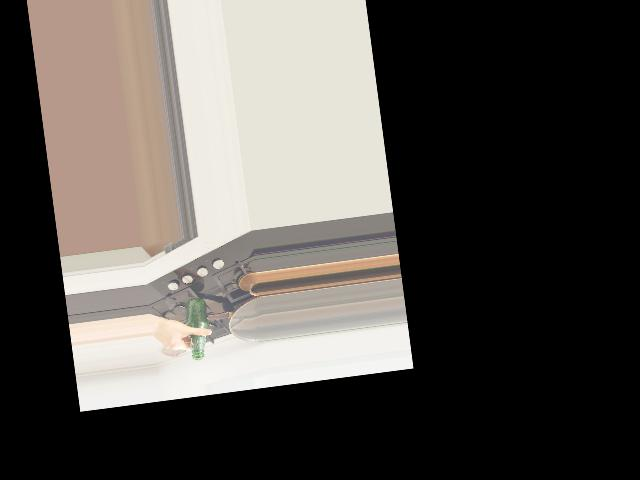beer: (184, 297, 212, 359)
